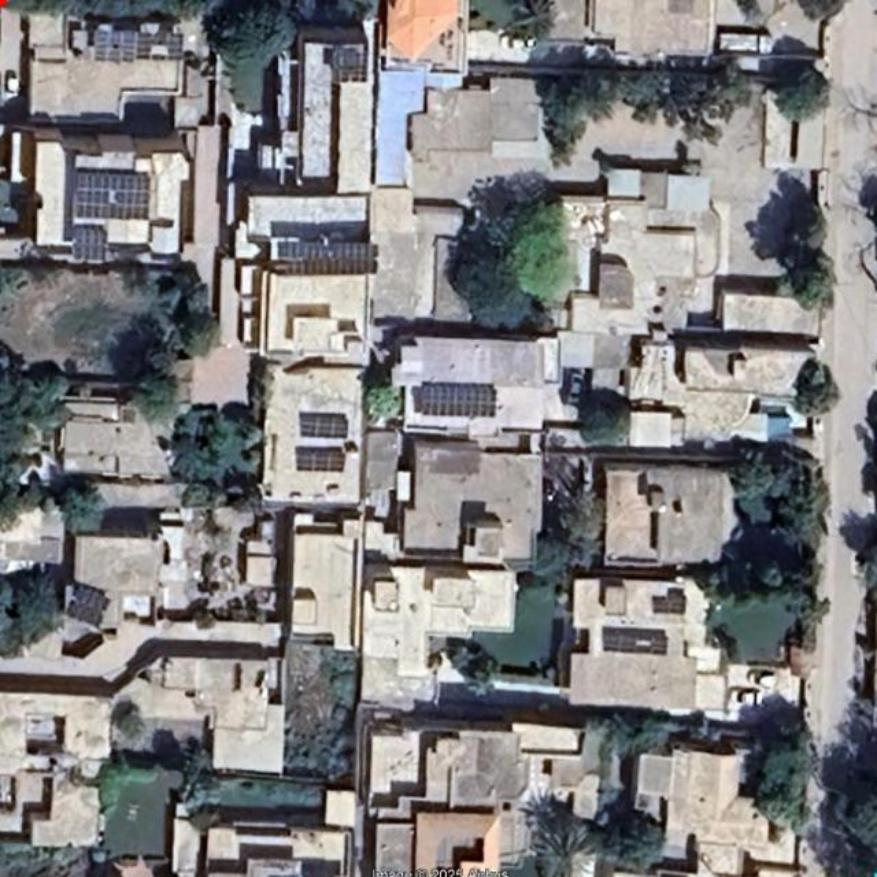Solarpanel: (280, 240, 380, 274), (75, 173, 147, 220), (91, 31, 178, 66), (416, 383, 498, 418), (66, 584, 109, 627), (602, 633, 668, 653), (298, 413, 347, 437), (80, 230, 104, 267), (301, 454, 342, 470)
